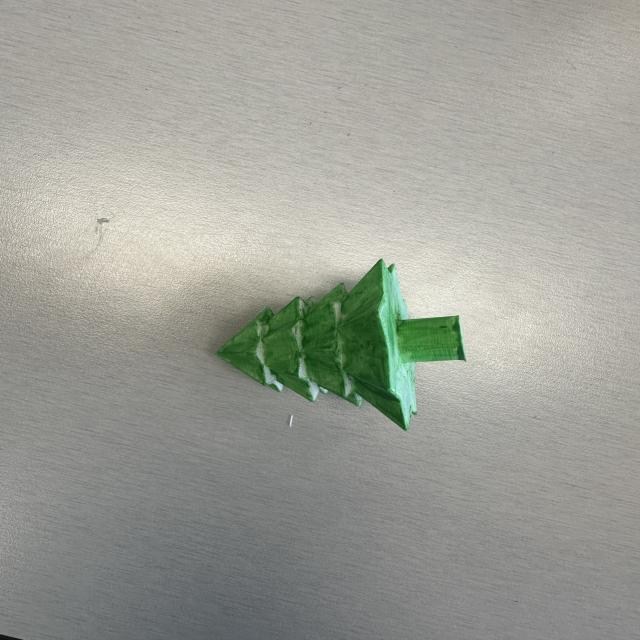tree: (217, 258, 470, 434)
